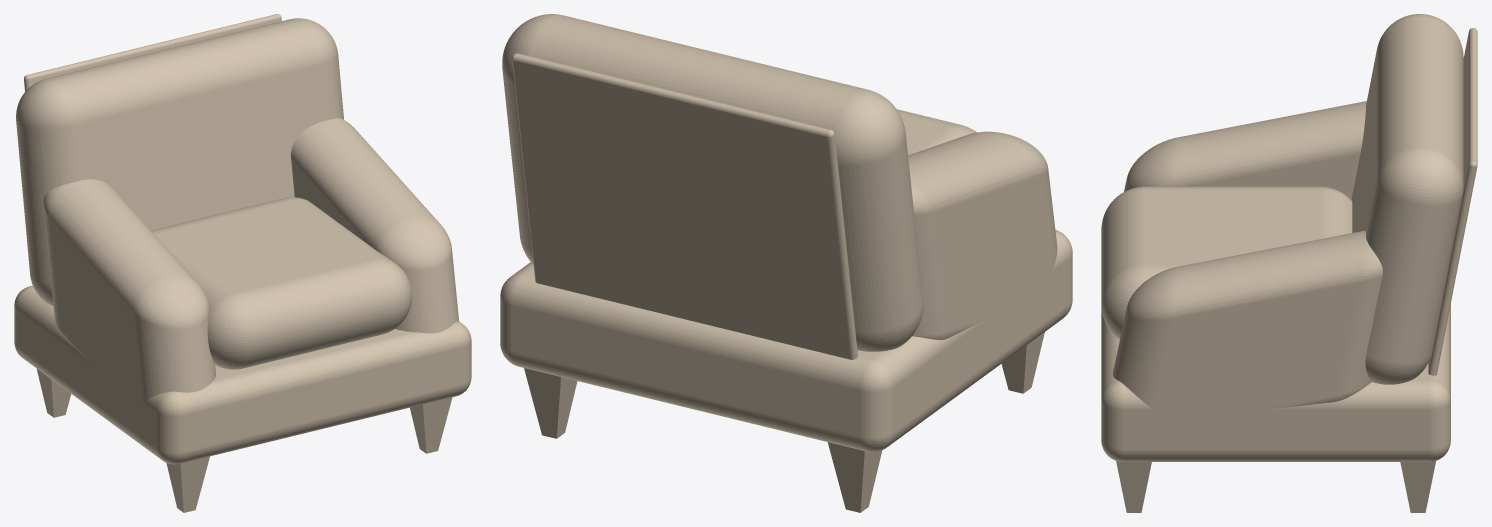
Rendered from chair-1.glb.
3 views of the same model, side by side, from view 1: azimuth 30°, elevation 25°; view 2: azimuth 150°, elevation 25°; view 3: azimuth 270°, elevation 25° (orthographic). The views are drawn at different scales.
Visible parts, largest first — view 1: Mesh_Mesh_head_geo.001_lambert2SG.001; view 2: Mesh_Mesh_head_geo.001_lambert2SG.001; view 3: Mesh_Mesh_head_geo.001_lambert2SG.001.
Boxes of the visible parts, x1,y1,x2,y2 form: Mesh_Mesh_head_geo.001_lambert2SG.001: (14,14,471,512); Mesh_Mesh_head_geo.001_lambert2SG.001: (500,14,1072,512); Mesh_Mesh_head_geo.001_lambert2SG.001: (1101,14,1477,512).
Size of the model in its own units: 7 by 7.12 by 6.7.
